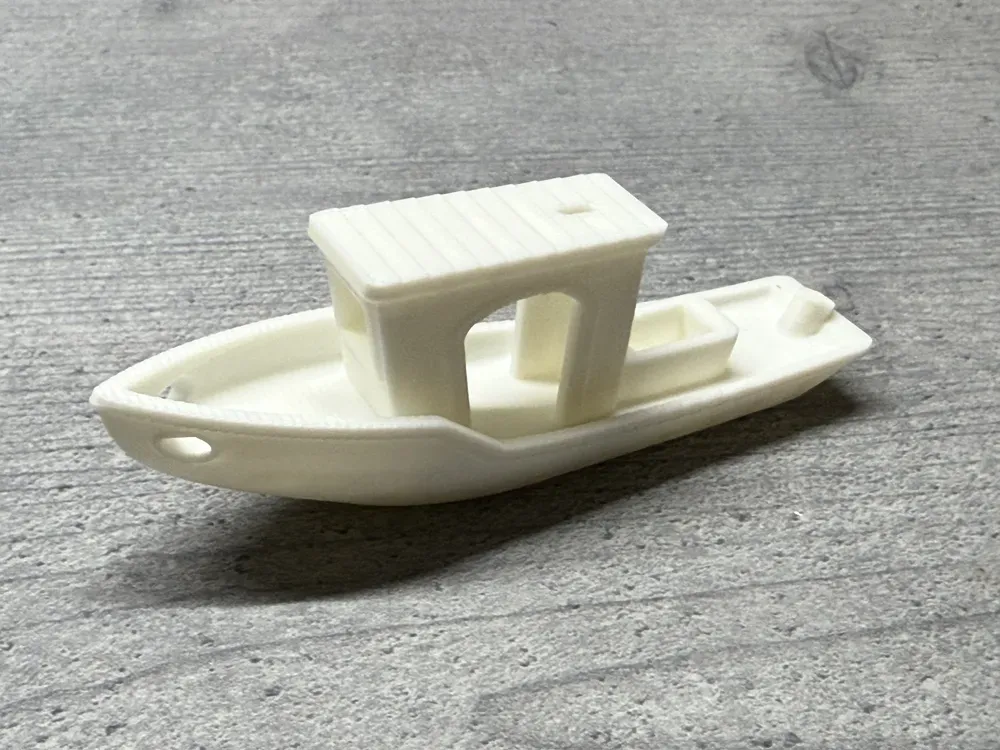3d print: (90, 175, 871, 505)
